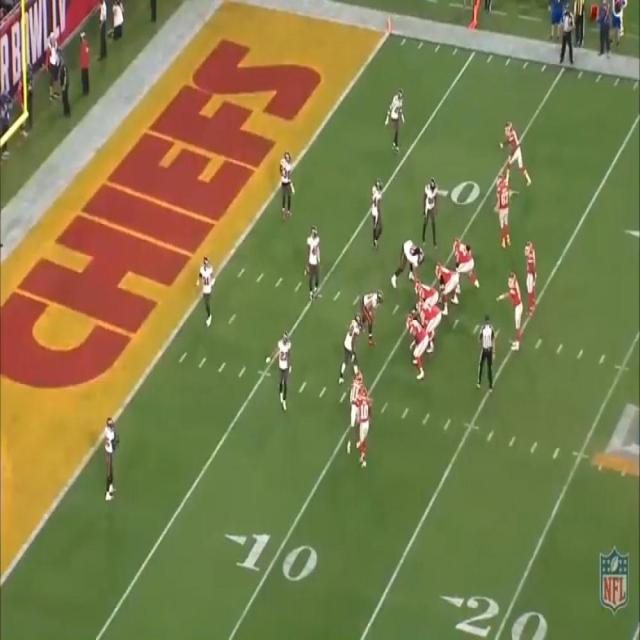center: (415, 282, 437, 306)
db: (196, 254, 216, 324), (277, 151, 296, 217), (102, 421, 119, 494), (386, 89, 406, 148), (275, 334, 289, 404)
lb: (306, 226, 324, 293), (370, 179, 384, 240)
qb: (504, 273, 523, 347)
